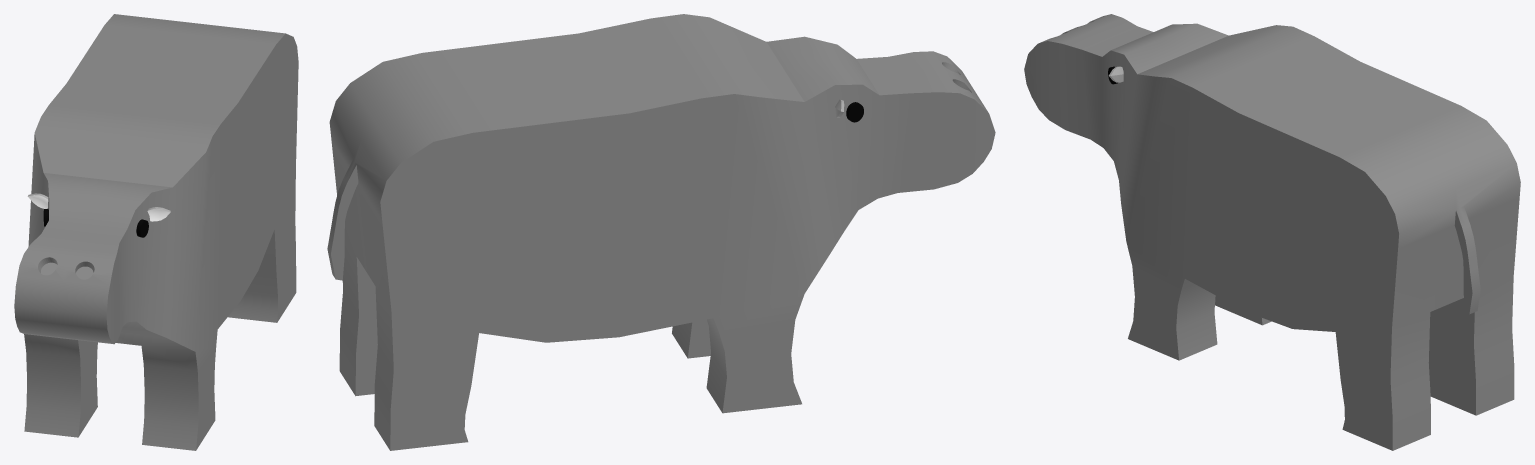
The model's file is hippopotamus.glb.
3 renders of one model, left to right at view 1: azimuth 30°, elevation 25°; view 2: azimuth 150°, elevation 25°; view 3: azimuth 270°, elevation 25°, orthographic. The views are drawn at different scales.
Visible parts, largest first — view 1: Plane.137, Cube.6241; view 2: Plane.137; view 3: Plane.137.
Boxes of the visible parts, x1=… form: Plane.137: x1=14, y1=14, x2=298, y2=450; Cube.6241: x1=27, y1=193, x2=170, y2=221; Plane.137: x1=327, y1=14, x2=995, y2=450; Plane.137: x1=1024, y1=14, x2=1520, y2=450.
Size of the model in its own units: 2.22 by 1.38 by 2.22.
1 material, 1 textured.
